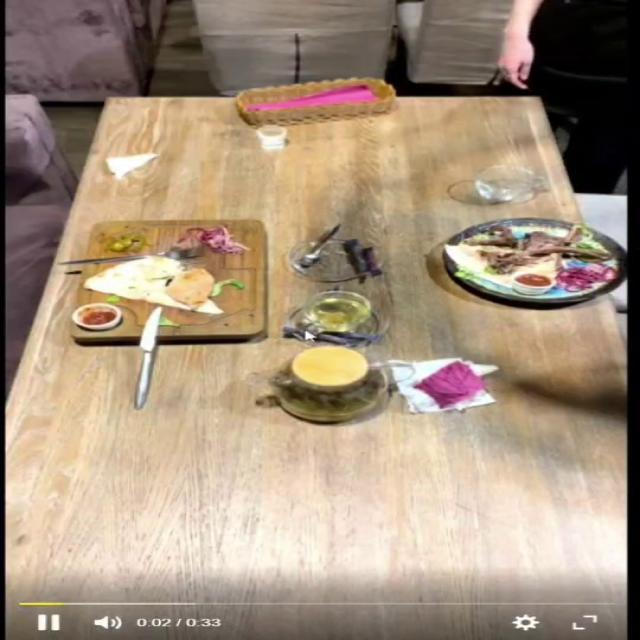meat: (405, 218, 640, 326), (73, 218, 271, 338)
tea: (268, 345, 387, 423)
